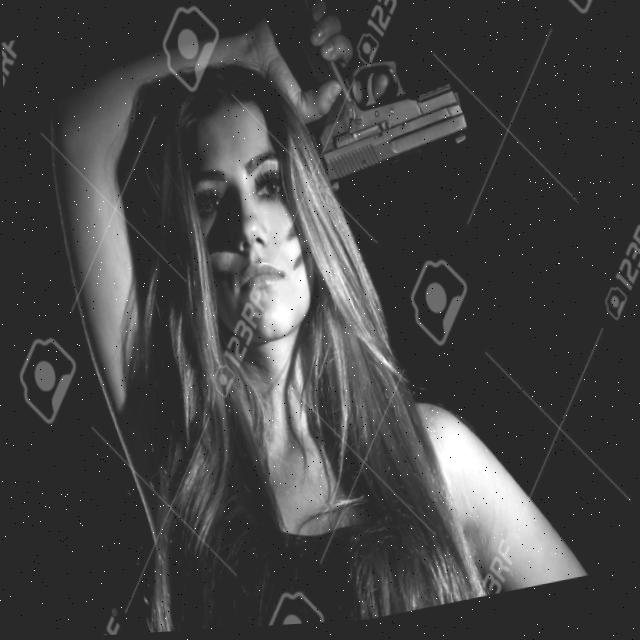pistol: (300, 46, 475, 200)
